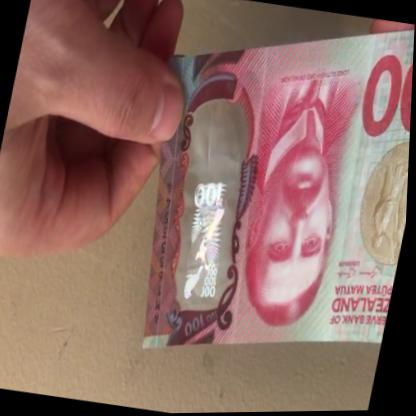100F: (166, 120, 252, 306)
